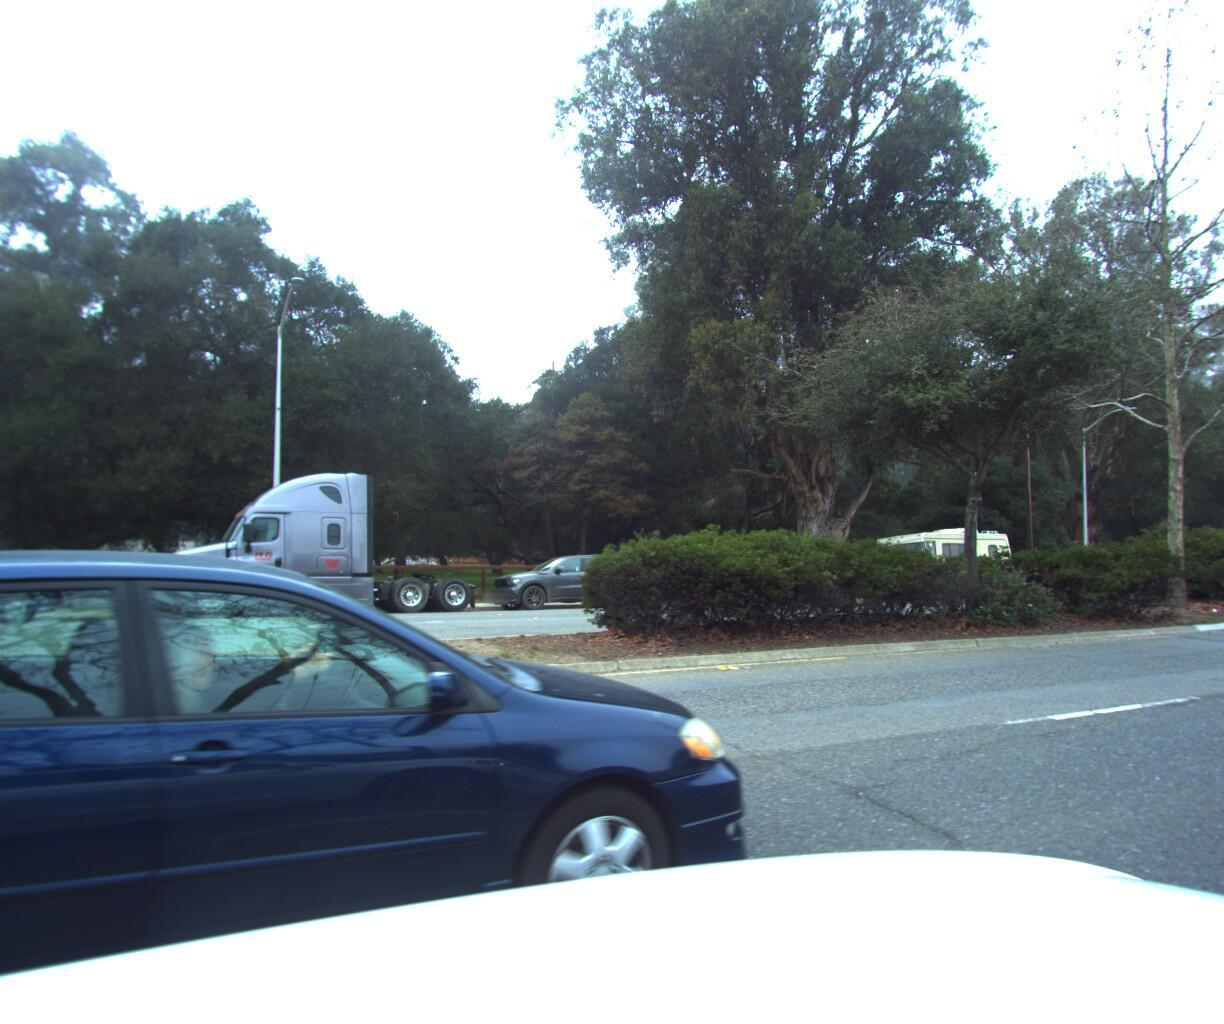car: (0, 541, 831, 1024), (480, 549, 648, 616), (0, 558, 64, 640)
other_vehicle: (851, 520, 1015, 602)
truck: (142, 455, 483, 626)
